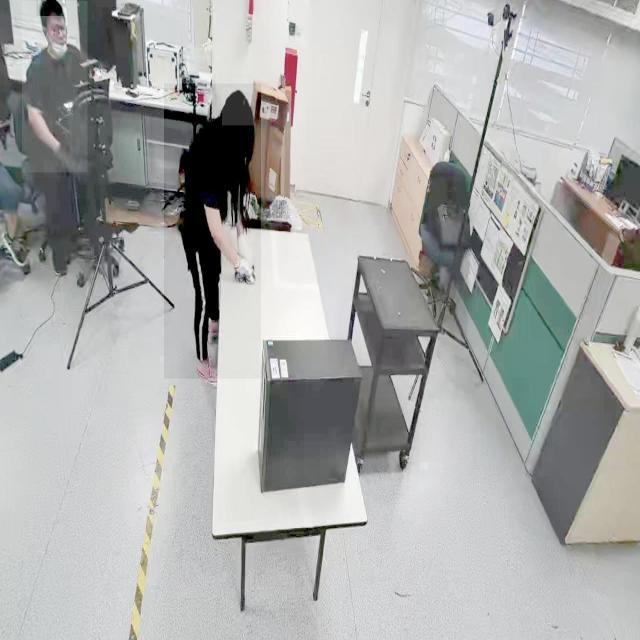hand_glove: (233, 233, 254, 295)
head_nohelmet: (222, 87, 254, 126), (36, 0, 66, 17)
person: (164, 83, 262, 380), (22, 1, 88, 173)
